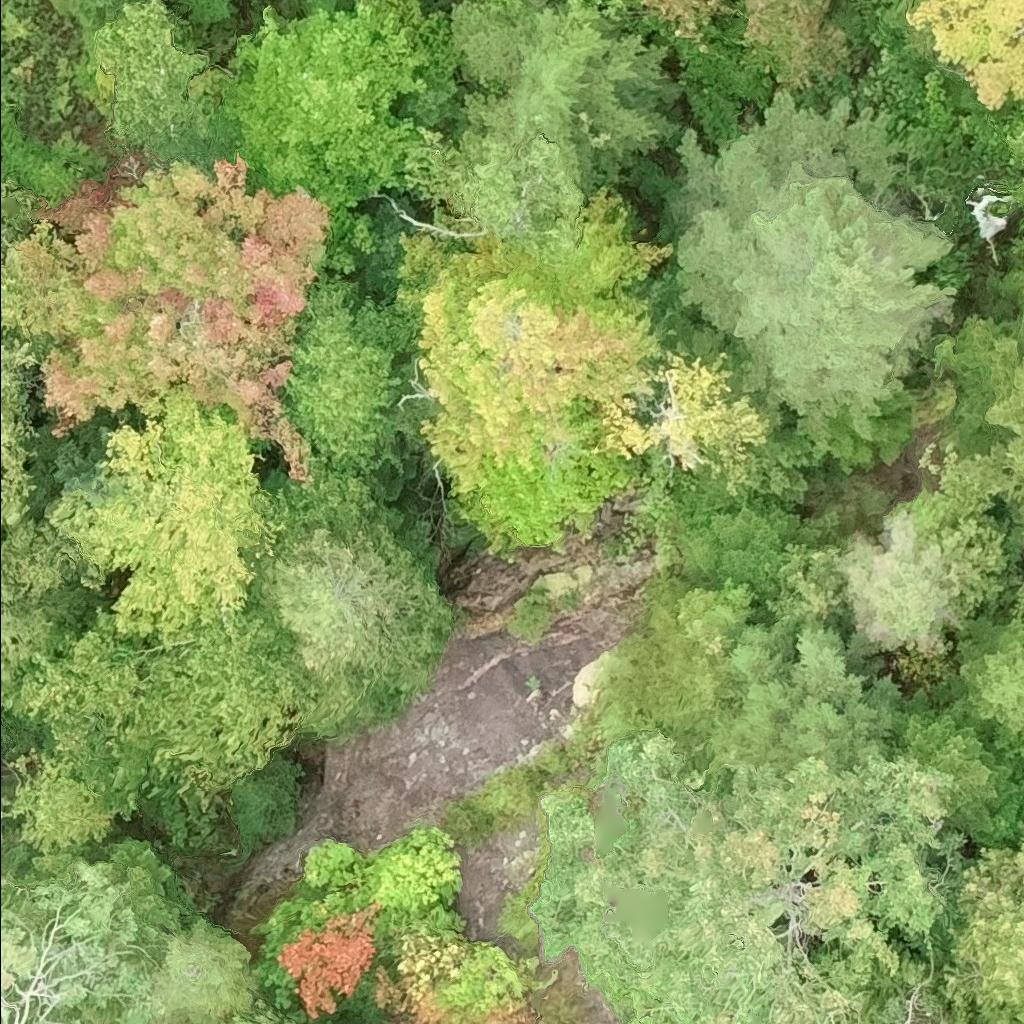crown: (531, 728, 966, 1023), (5, 151, 330, 478), (665, 88, 961, 434), (383, 228, 666, 494), (201, 0, 430, 270), (48, 382, 273, 653), (448, 0, 687, 201), (248, 521, 451, 735), (8, 603, 160, 849), (141, 598, 304, 805), (594, 348, 773, 493), (0, 862, 161, 1023), (281, 271, 404, 476), (399, 127, 587, 261), (89, 0, 222, 179), (0, 495, 105, 713), (889, 684, 1023, 843), (934, 300, 1023, 524), (534, 183, 674, 315), (939, 822, 1023, 1023), (301, 827, 461, 930), (672, 494, 829, 596), (24, 401, 145, 519), (906, 0, 1023, 109), (149, 914, 253, 1023), (739, 0, 850, 92), (955, 615, 1023, 733), (0, 333, 40, 531), (439, 940, 523, 1016), (65, 0, 142, 30), (562, 0, 634, 26), (903, 975, 925, 1023), (0, 34, 14, 99), (474, 0, 519, 11), (1011, 171, 1023, 210), (1012, 126, 1023, 168), (1013, 1002, 1023, 1023), (334, 0, 352, 8), (535, 0, 550, 5), (295, 0, 303, 2)
